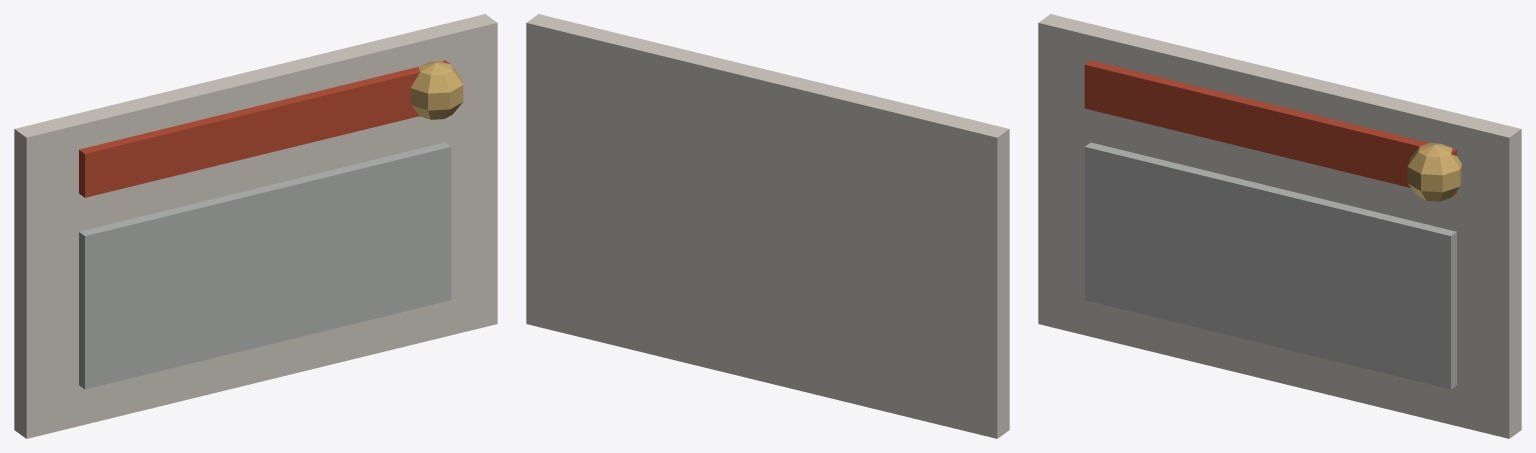
The model's file is ticket-splash.glb.
3 views of the same model, side by side, from view 1: azimuth 30°, elevation 25°; view 2: azimuth 150°, elevation 25°; view 3: azimuth 330°, elevation 25° (orthographic).
Parts seen in each view (by area): view 1: ticket-splash; view 2: ticket-splash; view 3: ticket-splash.
Boxes of the visible parts, x1=… form: ticket-splash: x1=14, y1=14, x2=497, y2=438; ticket-splash: x1=526, y1=14, x2=1009, y2=438; ticket-splash: x1=1038, y1=14, x2=1521, y2=438.
Size of the model in its own units: 0.9 by 0.55 by 0.1076.
